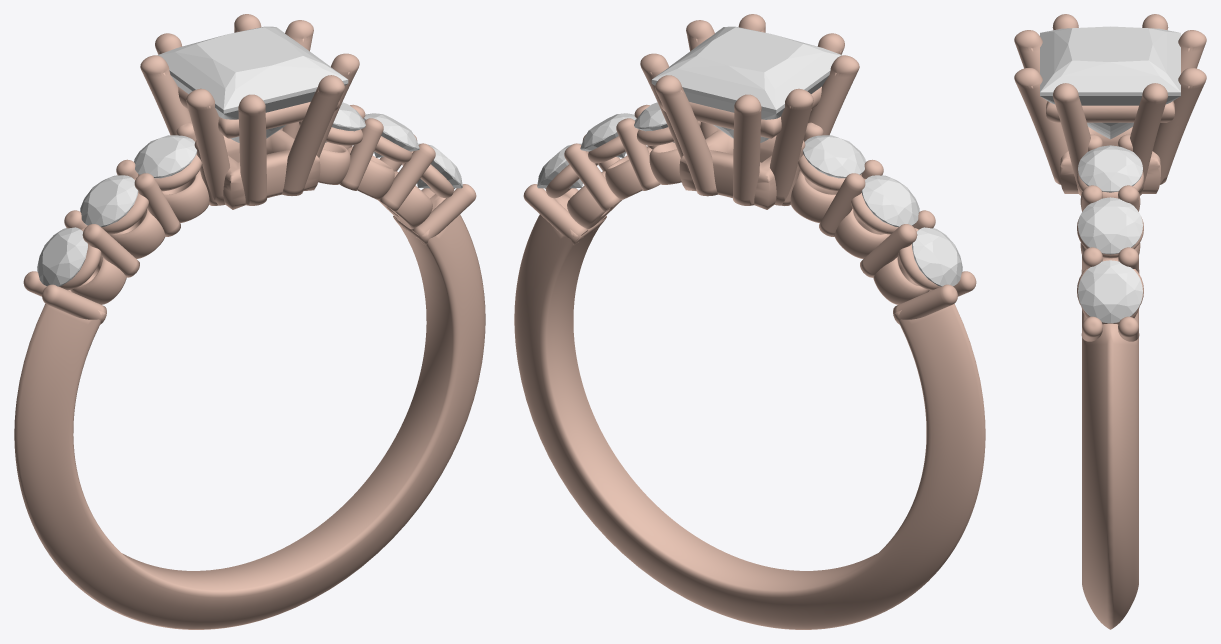
The model's file is diamond-princess-rosegold-8prong-knifeedge-7stone.glb.
The picture shows the model from 3 angles, left to right: view 1: azimuth 30°, elevation 25°; view 2: azimuth 150°, elevation 25°; view 3: azimuth 270°, elevation 25°; orthographic projection. The views are drawn at different scales.
Visible parts, largest first — view 1: metal, stone, side, side.001, side.002, side.004, side.005, side.003; view 2: metal, stone, side, side.001, side.002, side.004, side.005, side.003; view 3: metal, stone, side.005, side.004, side.003.
Part boxes in pixels (left/top/right/bottom): metal: left=14, top=14, right=485, bottom=629; stone: left=157, top=26, right=348, bottom=142; side: left=37, top=227, right=87, bottom=286; side.001: left=80, top=175, right=138, bottom=227; side.002: left=134, top=135, right=196, bottom=178; side.004: left=363, top=113, right=419, bottom=157; side.005: left=417, top=143, right=462, bottom=188; side.003: left=325, top=102, right=365, bottom=142; metal: left=514, top=14, right=985, bottom=629; stone: left=651, top=26, right=842, bottom=142; side: left=912, top=227, right=962, bottom=286; side.001: left=861, top=175, right=919, bottom=227; side.002: left=803, top=135, right=865, bottom=178; side.004: left=580, top=113, right=636, bottom=157; side.005: left=537, top=143, right=582, bottom=188; side.003: left=634, top=102, right=674, bottom=142; metal: left=1014, top=14, right=1206, bottom=629; stone: left=1040, top=26, right=1180, bottom=139; side.005: left=1078, top=260, right=1142, bottom=323; side.004: left=1078, top=197, right=1142, bottom=254; side.003: left=1078, top=145, right=1142, bottom=192.
Bounding box in the file's own units: 20.5 × 23.85 × 7.42.
